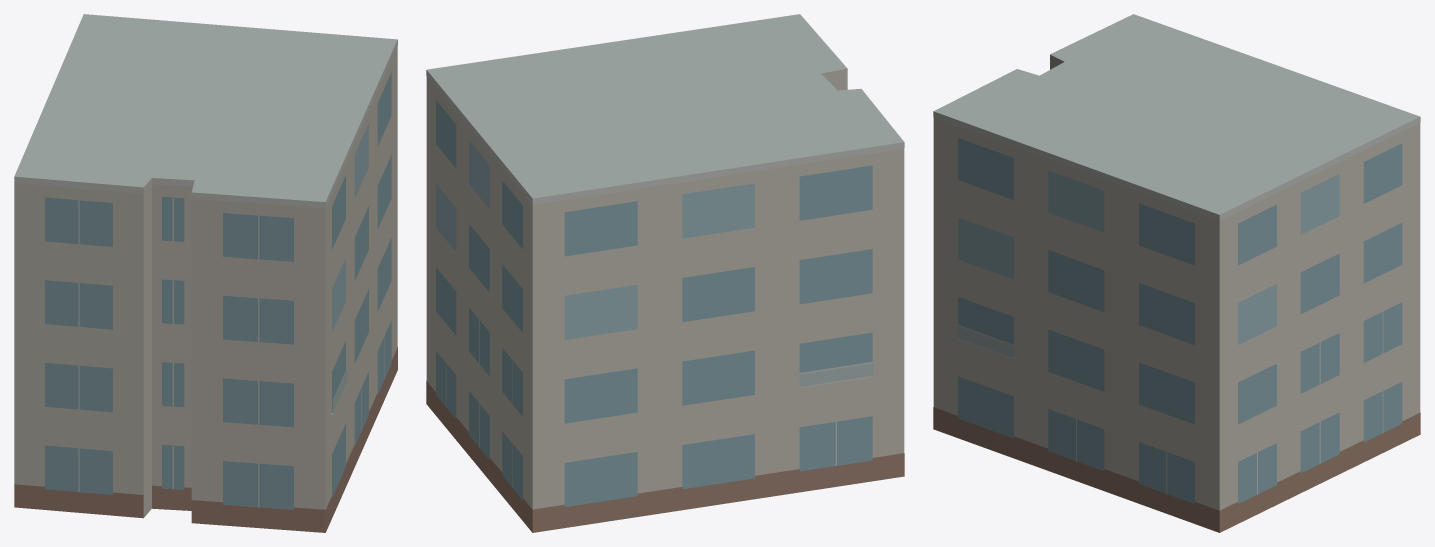
Rendered from survey-upis-32645072.glb.
The picture shows the model from 3 angles, left to right: view 1: azimuth 30°, elevation 25°; view 2: azimuth 150°, elevation 25°; view 3: azimuth 270°, elevation 25°; orthographic projection. The views are drawn at different scales.
Parts seen in each view (by area): view 1: survey-upis-32645072.tmp; view 2: survey-upis-32645072.tmp; view 3: survey-upis-32645072.tmp.
Part boxes in pixels (x1=…): survey-upis-32645072.tmp: x1=14, y1=14, x2=397, y2=532; survey-upis-32645072.tmp: x1=426, y1=14, x2=904, y2=532; survey-upis-32645072.tmp: x1=933, y1=14, x2=1420, y2=532.
Bounding box in the file's own units: 17.35 × 12.8 × 17.77.
